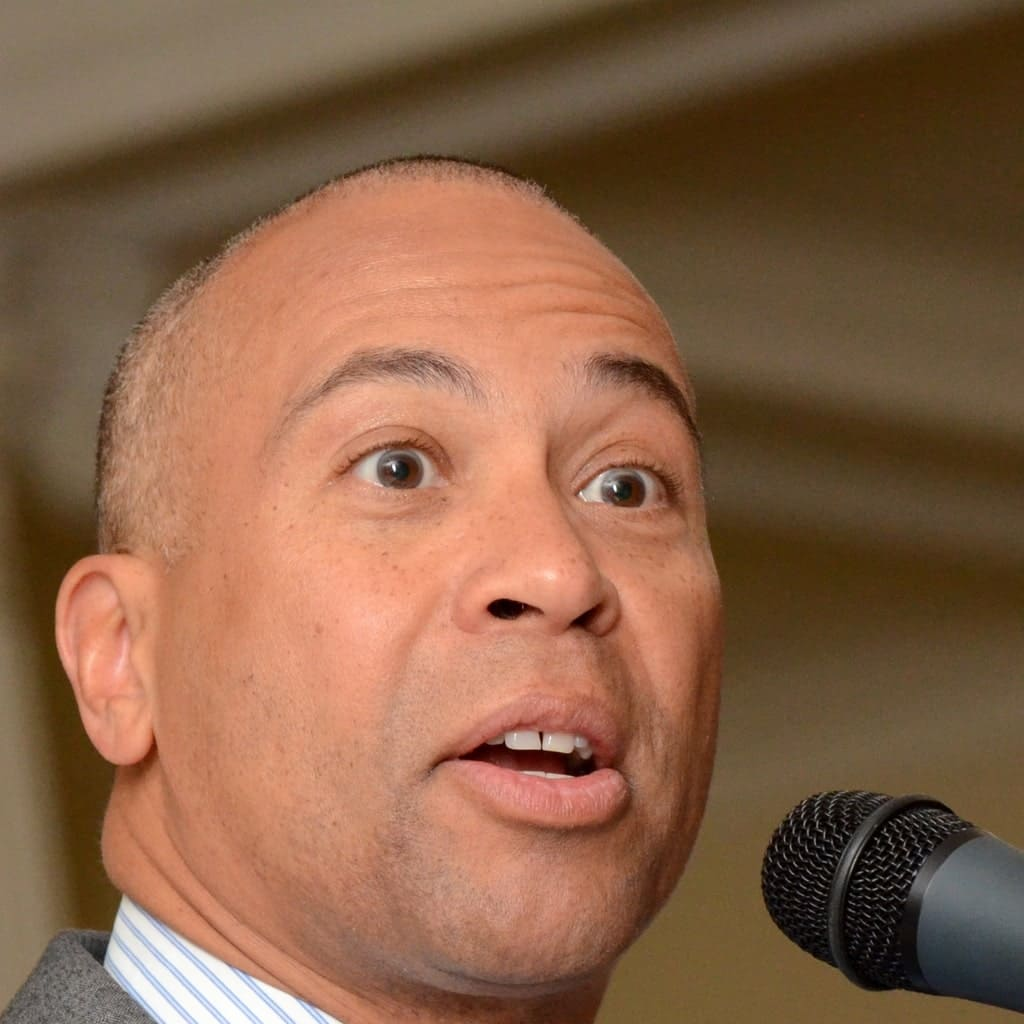without_mask: (218, 306, 716, 931)
